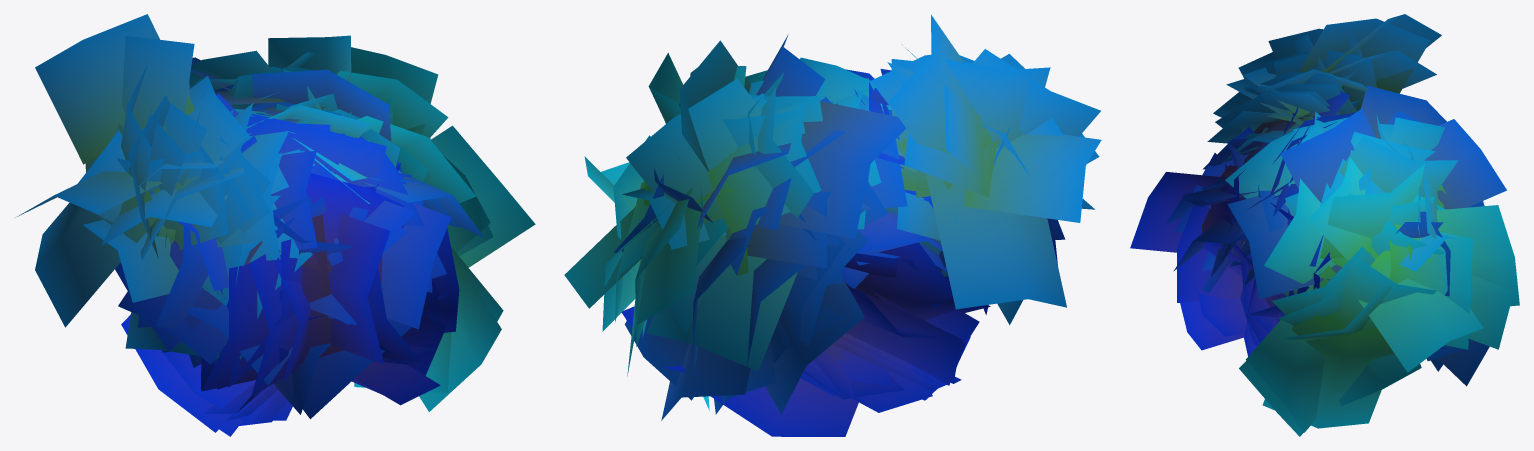
The model's file is SM_Bush_Hawthorn_A.fbx.
The picture shows the model from 3 angles, left to right: view 1: azimuth 30°, elevation 25°; view 2: azimuth 150°, elevation 25°; view 3: azimuth 270°, elevation 25°; orthographic projection. The views are drawn at different scales.
Parts seen in each view (by area): view 1: SM_Bush_Hawthorn_A; view 2: SM_Bush_Hawthorn_A; view 3: SM_Bush_Hawthorn_A.
Boxes of the visible parts, bbox=[...] form: SM_Bush_Hawthorn_A: bbox=[15, 14, 535, 436]; SM_Bush_Hawthorn_A: bbox=[564, 14, 1101, 436]; SM_Bush_Hawthorn_A: bbox=[1130, 14, 1519, 436].
Bounding box in the file's own units: 1.15 × 0.9408 × 1.01.
